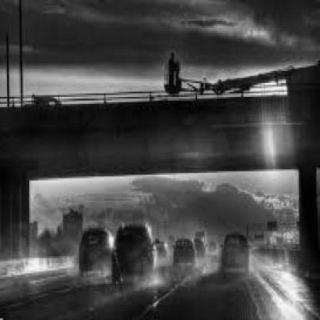other: (269, 262, 311, 306)
